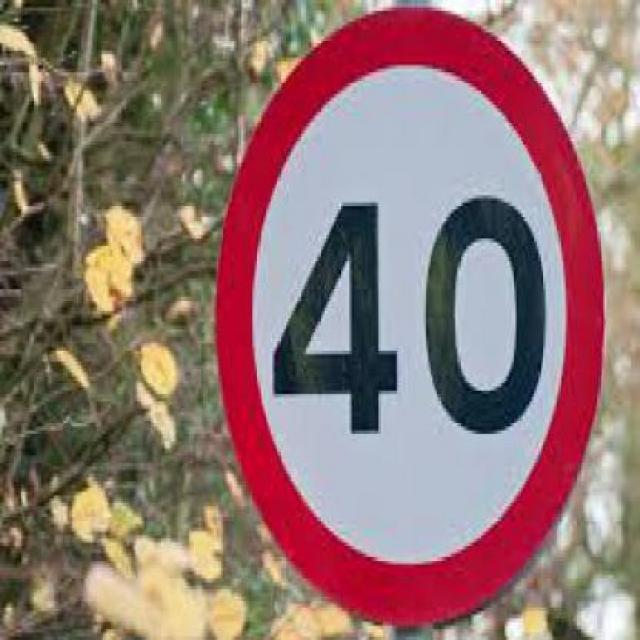speed limit 40: (215, 6, 606, 632)
